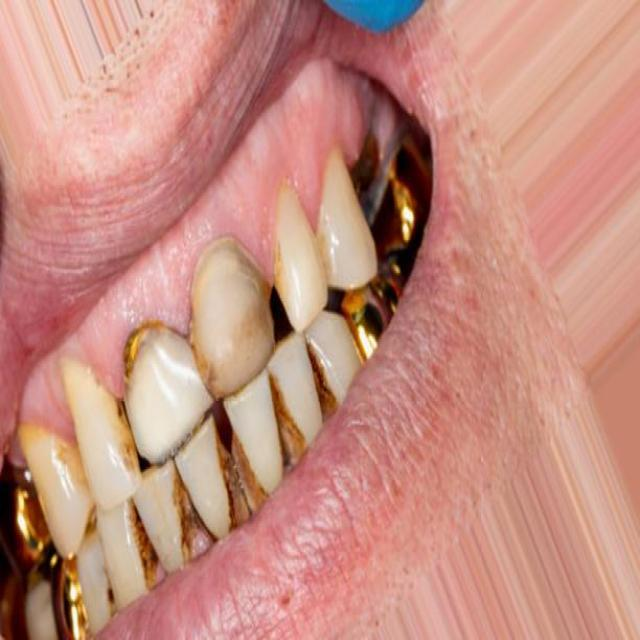caries: (336, 126, 393, 222)
